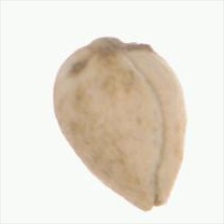L3: (136, 198, 171, 212)
L4: (52, 37, 187, 212)
